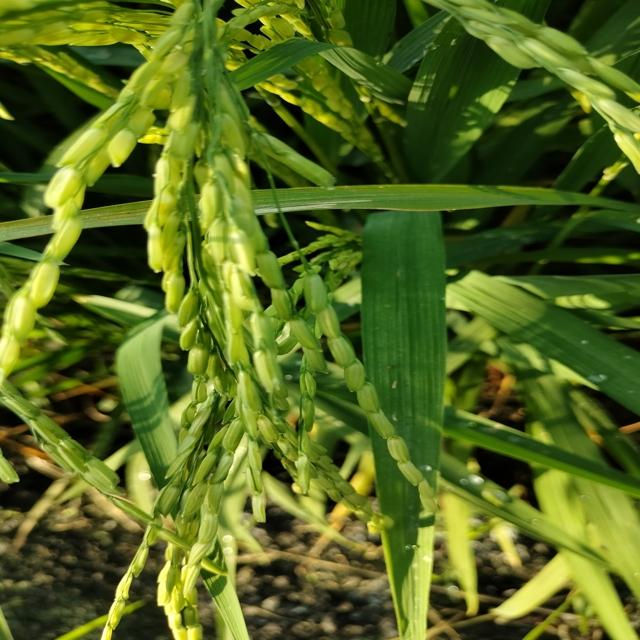Bacterial leaf blight: (255, 197, 373, 216)
